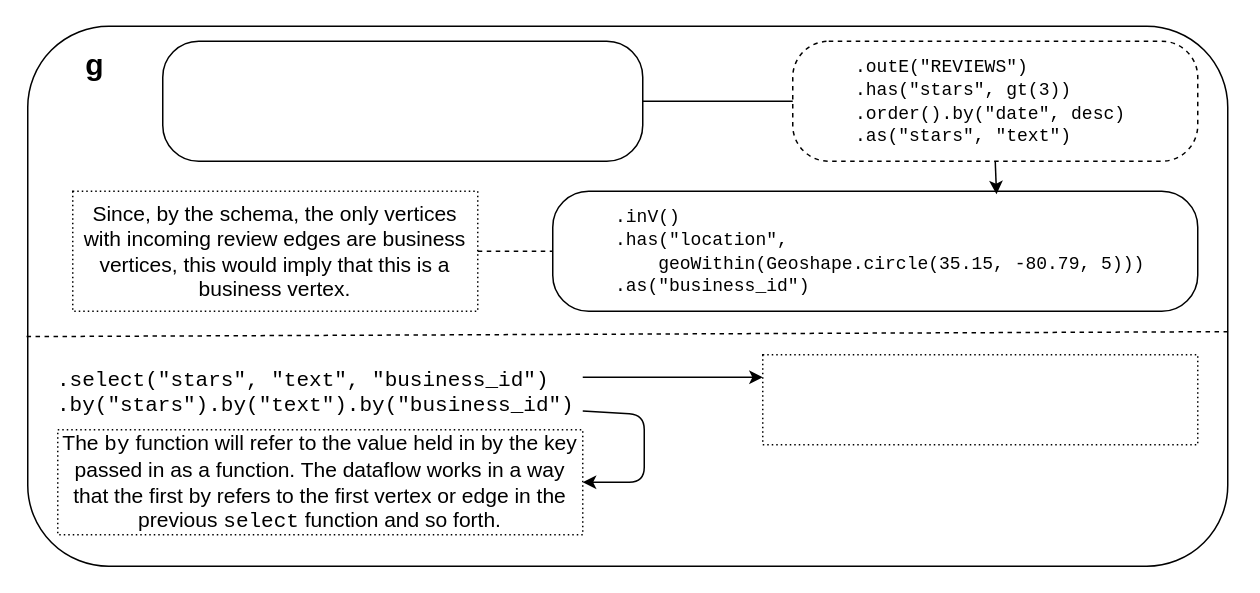
Image size: 1260x593. Some labels were removed from this diagram. Each missing label, with the centre of its shape:
The select will refer to vertices or edges tagged by the as function.: the point at 979,399
V() .hasLabel("User") .userId("qUL3CdRRF1vedNvaq06rIA"): the point at 402,100
